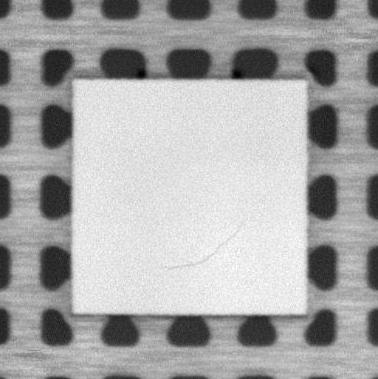DIE_CRACK: (166, 222, 249, 272)
